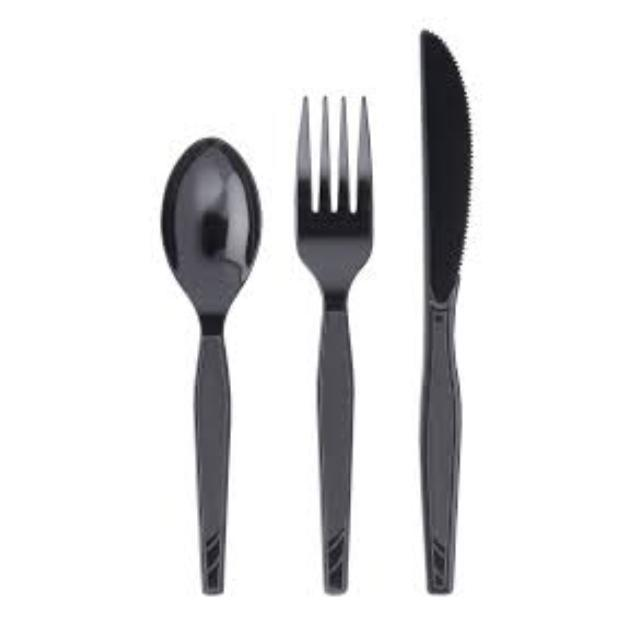Plastico descartable: (160, 136, 263, 598), (295, 93, 375, 597), (419, 29, 476, 599)
